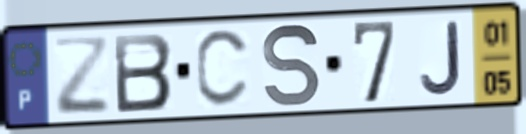7: (349, 19, 397, 106)
B: (110, 30, 175, 116)
C: (193, 27, 254, 112)
J: (417, 18, 464, 98)
S: (260, 21, 324, 111)
Z: (50, 35, 112, 118)
